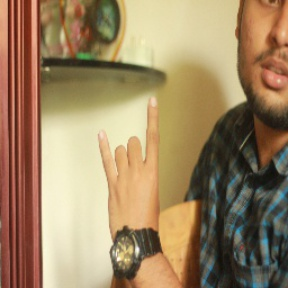V: (97, 95, 173, 237)
